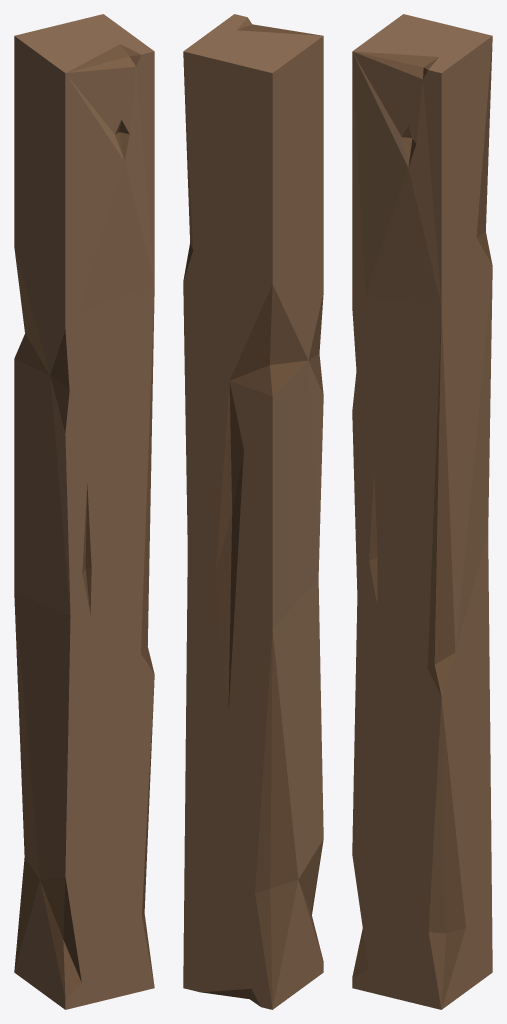
Rendered from mesh_plank_pillar.fbx.
The picture shows the model from 3 angles, left to right: view 1: azimuth 30°, elevation 25°; view 2: azimuth 150°, elevation 25°; view 3: azimuth 330°, elevation 25°; orthographic projection.
Visible parts, largest first — view 1: mesh_plank_pillar; view 2: mesh_plank_pillar; view 3: mesh_plank_pillar.
Boxes of the visible parts, x1,y1,x2,y2 form: mesh_plank_pillar: (14, 14, 154, 1009); mesh_plank_pillar: (183, 14, 323, 1009); mesh_plank_pillar: (352, 14, 492, 1009).
Size of the model in its own units: 0.1996 by 2 by 0.2044.
